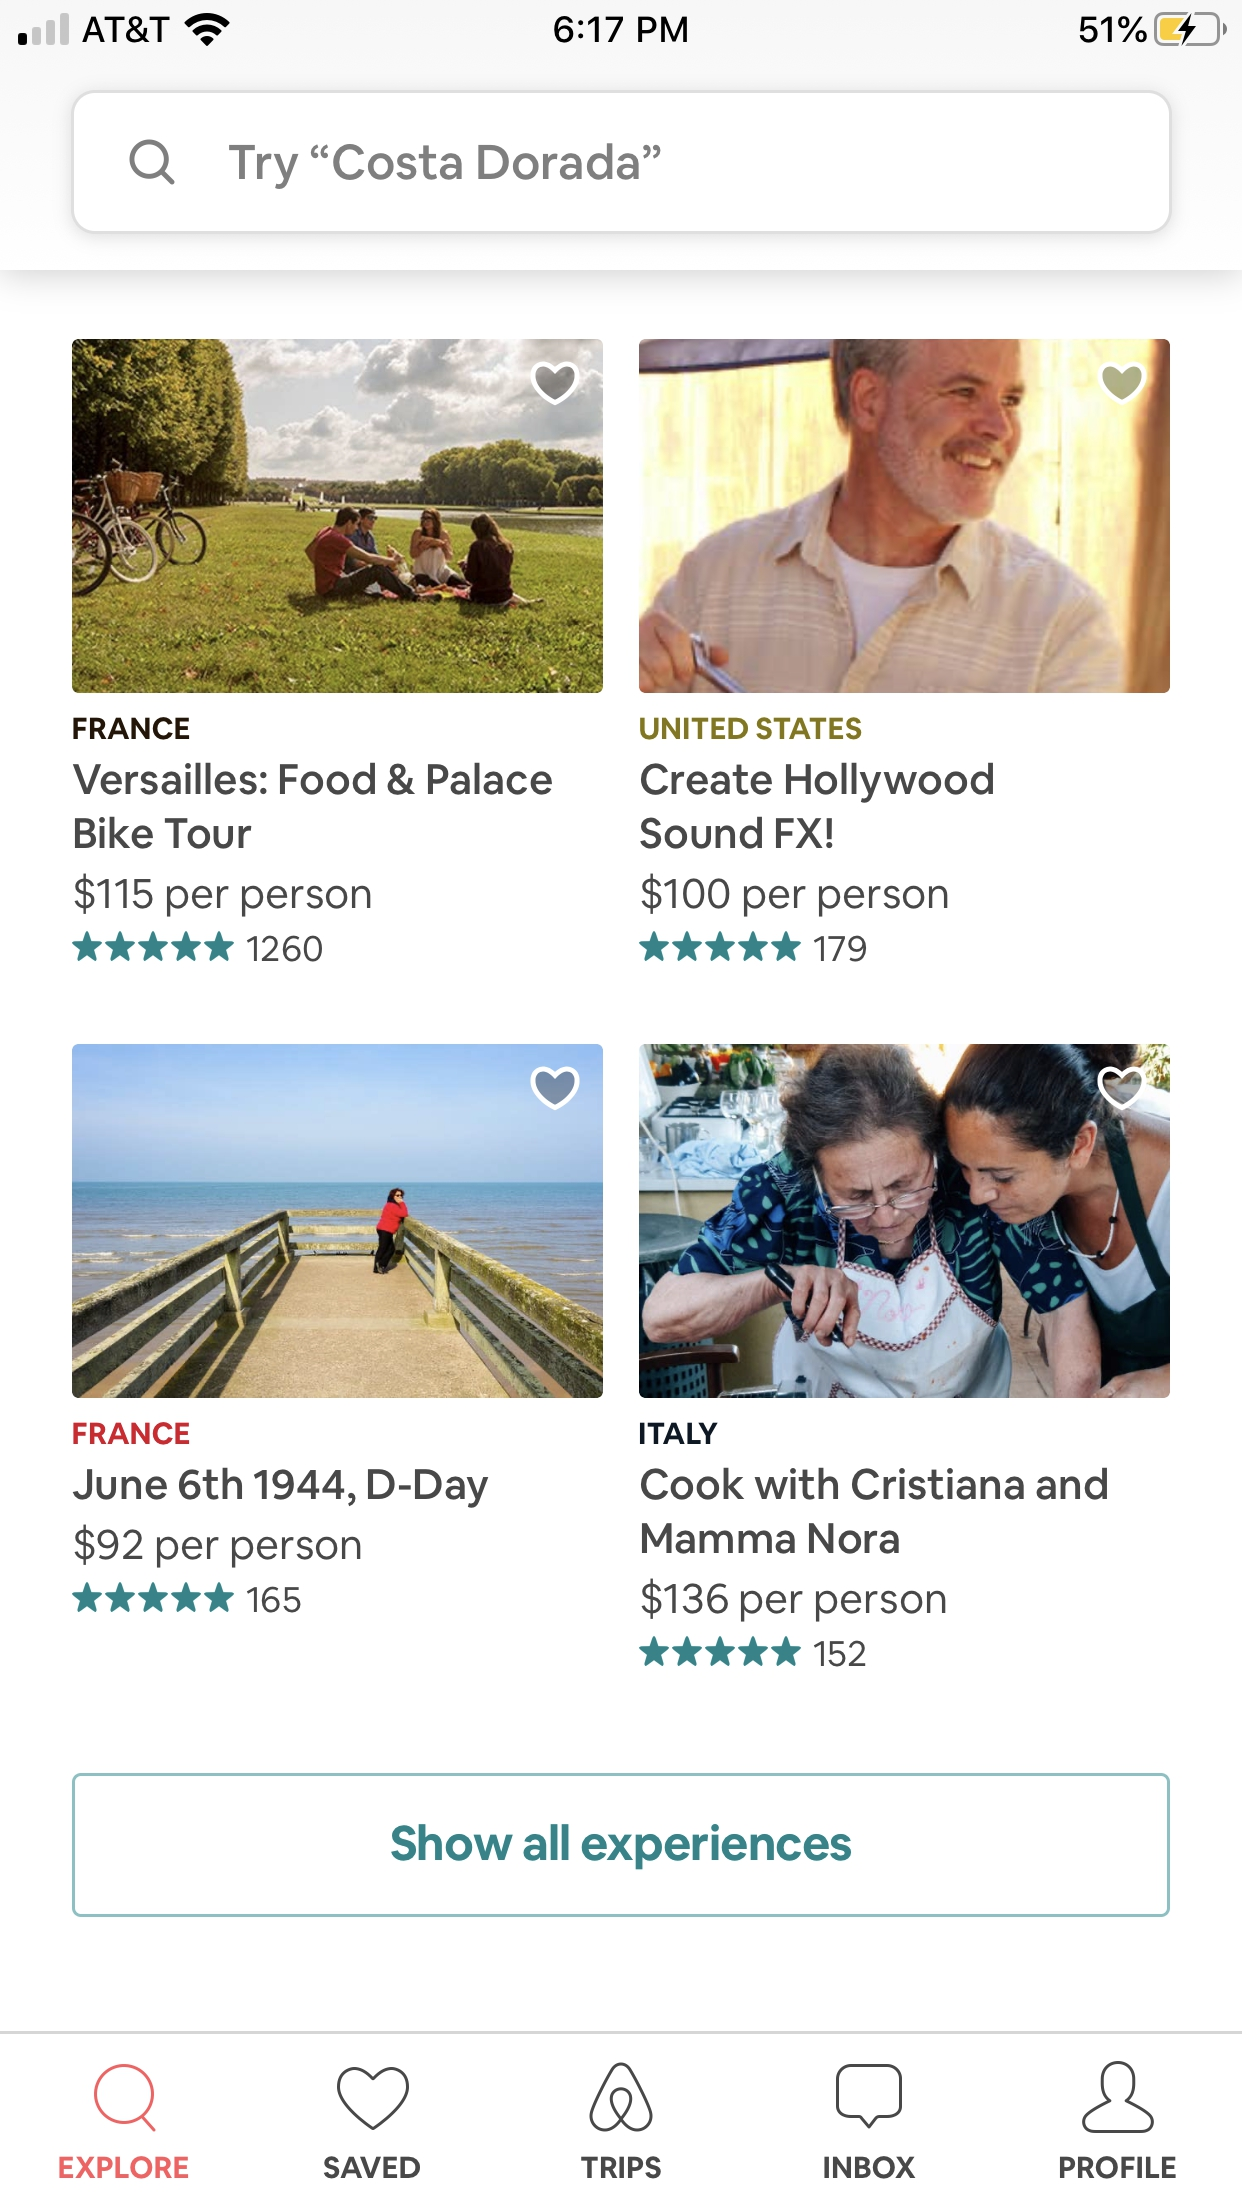EditText: (71, 89, 1174, 235)
Icon: (1081, 2061, 1156, 2134), (638, 1635, 802, 1667), (71, 930, 235, 961), (638, 931, 802, 961), (73, 1582, 235, 1612), (337, 2065, 409, 2131), (836, 2062, 902, 2129), (94, 2064, 158, 2134), (531, 361, 581, 406), (130, 140, 176, 187), (531, 1066, 579, 1110), (1098, 362, 1146, 406), (1096, 1068, 1146, 1110)
Image: (638, 1043, 1171, 1400), (638, 340, 1171, 695), (73, 1043, 604, 1398), (73, 340, 604, 695), (588, 2062, 654, 2132)
Text: (73, 761, 554, 851), (641, 1466, 1109, 1554), (640, 761, 993, 851), (229, 143, 663, 191), (73, 1468, 488, 1507), (641, 873, 949, 917), (641, 1579, 946, 1623), (74, 873, 372, 917), (76, 1524, 362, 1568), (640, 717, 861, 742), (61, 2155, 190, 2179), (1059, 2155, 1175, 2179), (73, 717, 190, 742), (74, 1421, 190, 1445), (823, 2155, 914, 2179), (325, 2156, 422, 2179), (247, 936, 323, 963), (581, 2155, 663, 2179), (640, 1421, 719, 1445), (247, 1586, 300, 1614), (814, 936, 867, 963), (814, 1639, 866, 1667)
TextButton: (71, 1773, 1171, 1918)
UpperTaskBar: (2, 2, 1242, 49)
